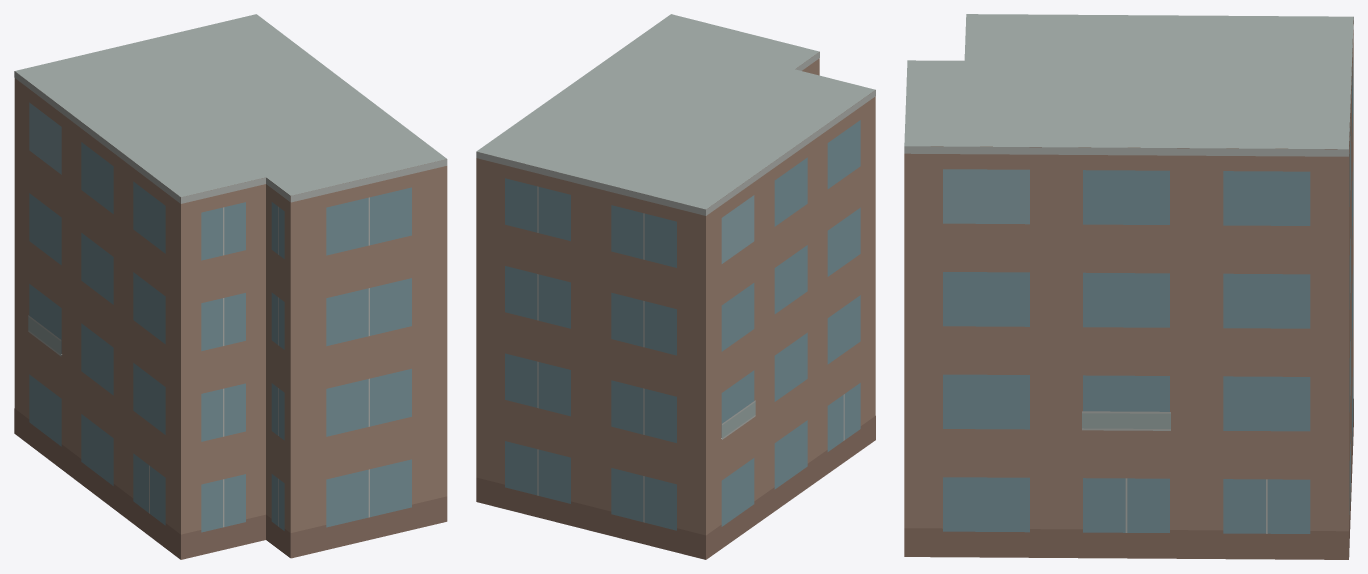
The model's file is survey-upis-33021659.glb.
3 renders of one model, left to right at view 1: azimuth 30°, elevation 25°; view 2: azimuth 150°, elevation 25°; view 3: azimuth 270°, elevation 25°, orthographic. The views are drawn at different scales.
Visible parts, largest first — view 1: survey-upis-33021659.tmp; view 2: survey-upis-33021659.tmp; view 3: survey-upis-33021659.tmp.
Part boxes in pixels (x1,y1,x2,y2): survey-upis-33021659.tmp: (14, 14, 447, 559); survey-upis-33021659.tmp: (476, 14, 875, 559); survey-upis-33021659.tmp: (904, 14, 1353, 559).
Size of the model in its own units: 9.33 by 13.2 by 13.1.
